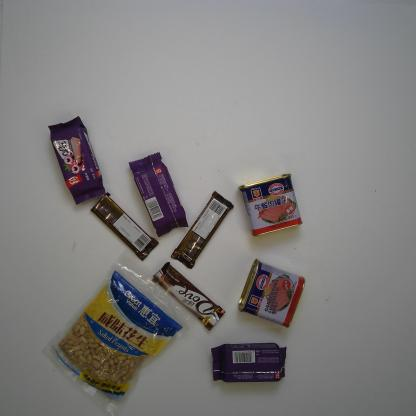Canned Food: (236, 257, 306, 329), (237, 171, 304, 239)
Chocolate: (149, 262, 227, 332), (169, 188, 234, 270), (88, 191, 160, 263)
Dessert: (126, 149, 190, 238), (46, 116, 107, 206), (209, 341, 287, 384)
Dried Fruit: (41, 261, 194, 413)
